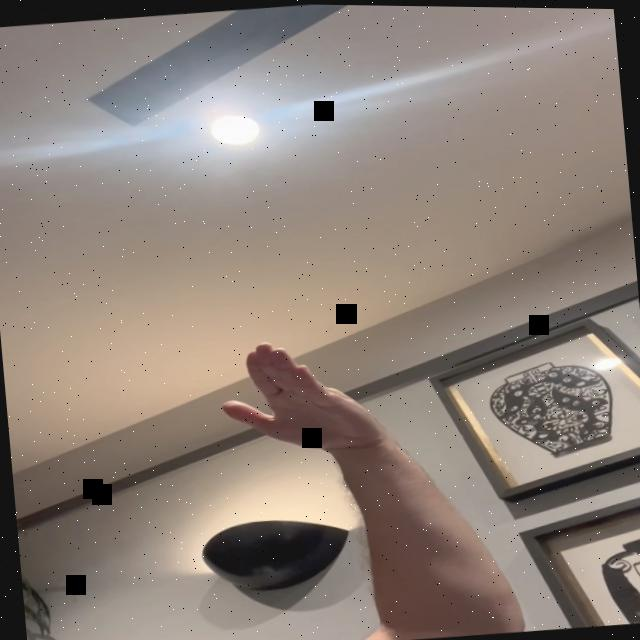Paper: (211, 328, 389, 461)
